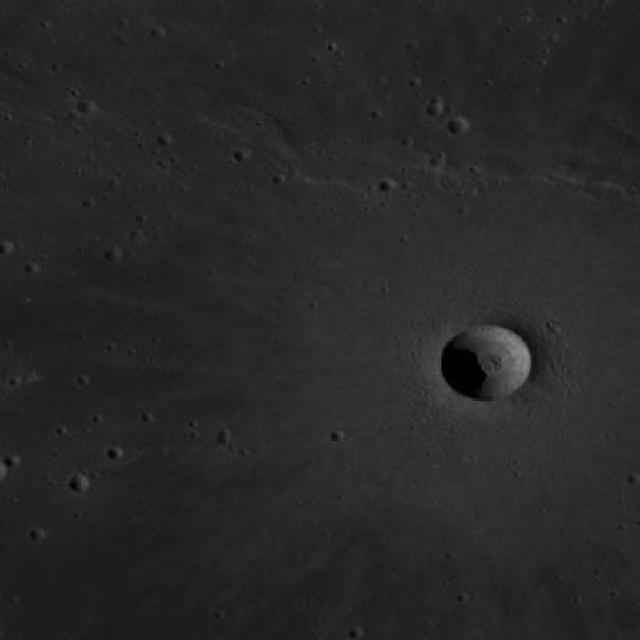crater: (442, 326, 532, 402), (448, 118, 470, 137), (68, 476, 90, 494), (103, 248, 122, 264), (78, 100, 97, 116), (0, 239, 15, 255)
